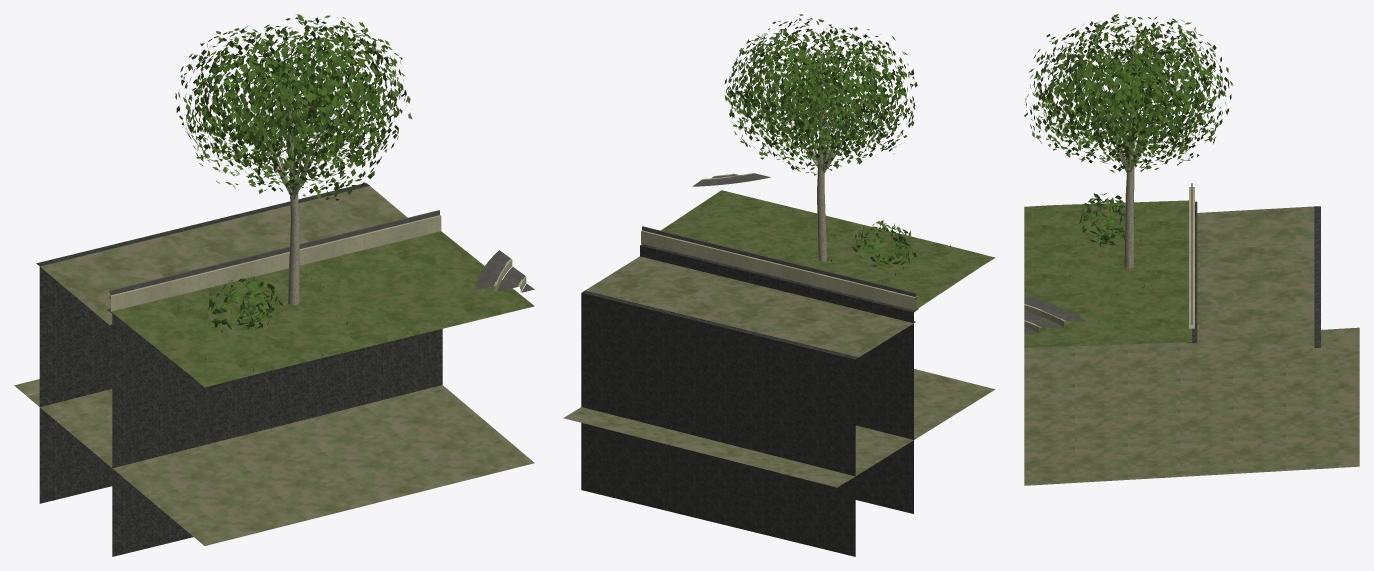
3 renders of one model, left to right at view 1: azimuth 30°, elevation 25°; view 2: azimuth 150°, elevation 25°; view 3: azimuth 270°, elevation 25°, orthographic. The views are drawn at different scales.
Size of the model in its own units: 16 by 23.56 by 16.
Materials: 8 (8 with a texture image).
